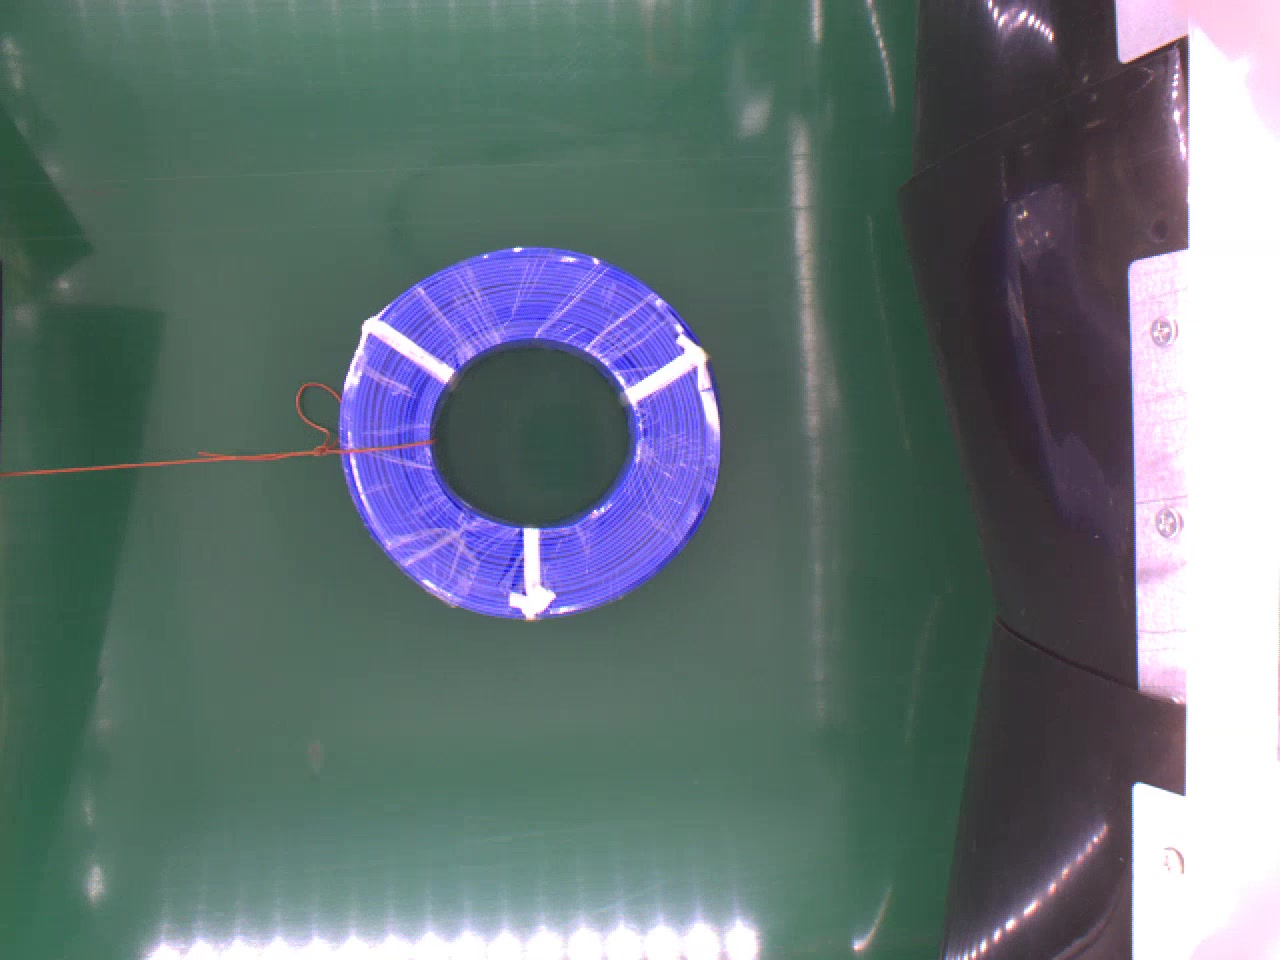blue: (335, 239, 722, 622)
